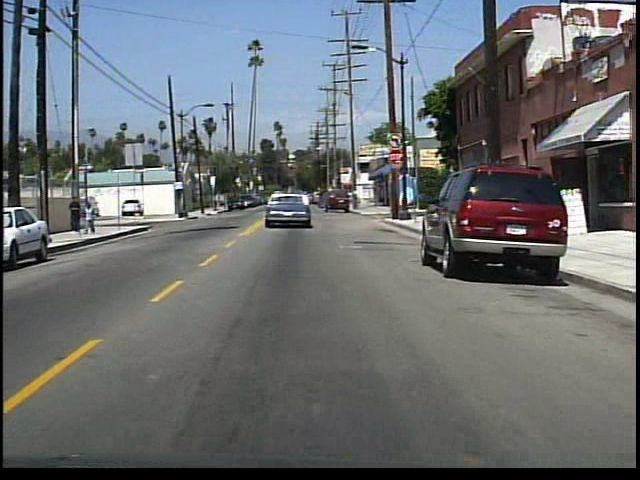person: (69, 193, 86, 234), (83, 200, 100, 236)
